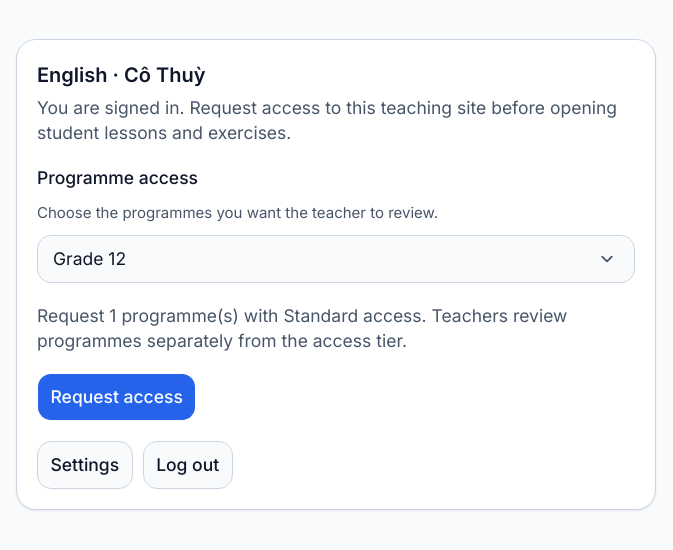
workspace access status › preserves the join form on a rejected request
Click the button "Request access" at [117, 396], box [37,372,196,420]
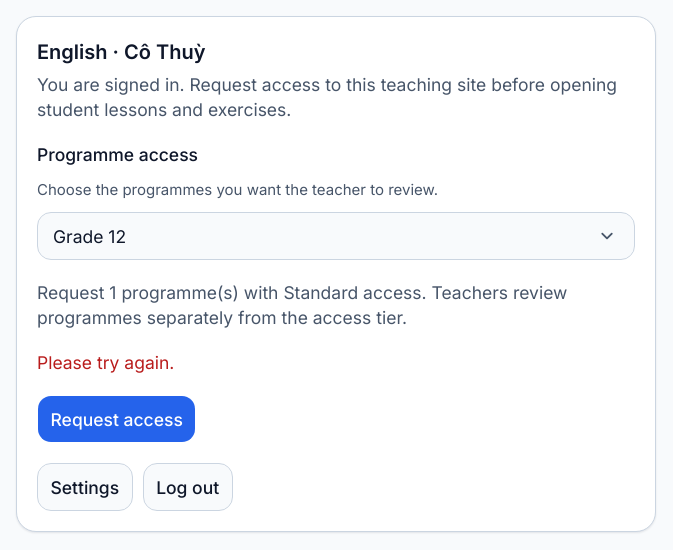
Expected: the button "Request access" is enabled, [37,395,196,443]
Expected: the message reads "Please try again.", [37,352,174,373]
